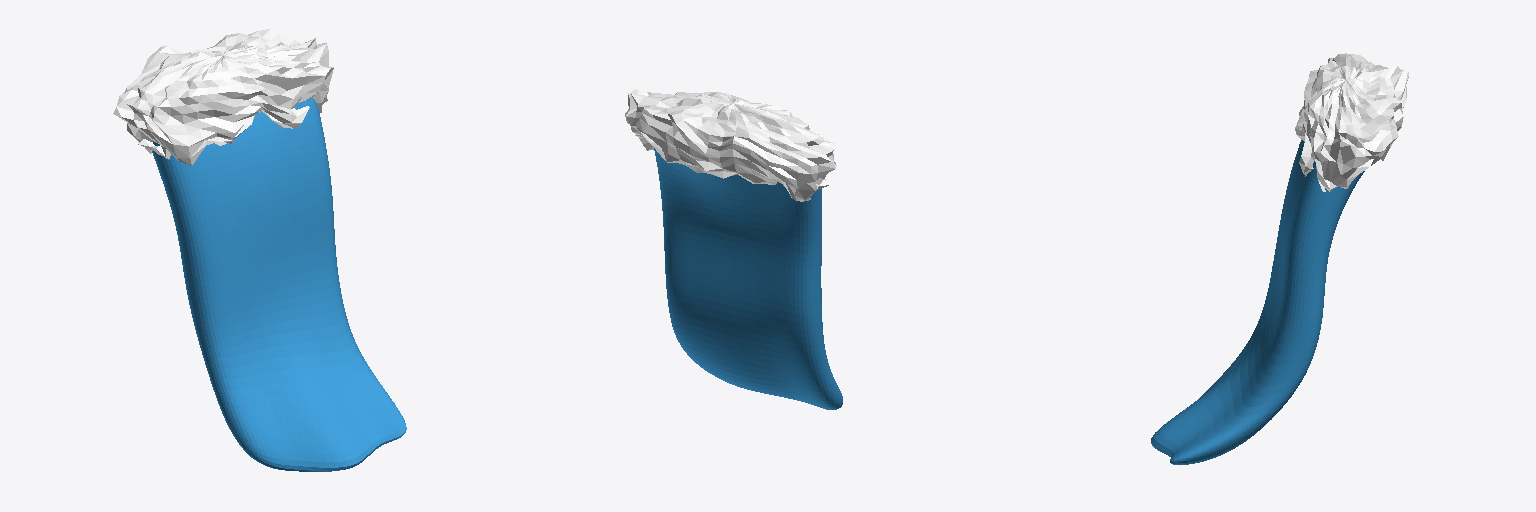
File: cacho.obj
3 renders of one model, left to right at view 1: azimuth 30°, elevation 25°; view 2: azimuth 150°, elevation 25°; view 3: azimuth 270°, elevation 25°, orthographic.
Visible parts, largest first — view 1: Landscape.1; view 2: Landscape.1; view 3: Landscape.1.
Boxes of the visible parts, x1=… form: Landscape.1: x1=113, y1=29, x2=406, y2=471; Landscape.1: x1=625, y1=89, x2=842, y2=409; Landscape.1: x1=1151, y1=53, x2=1408, y2=464.
Size of the model in its own units: 148 by 239 by 158.